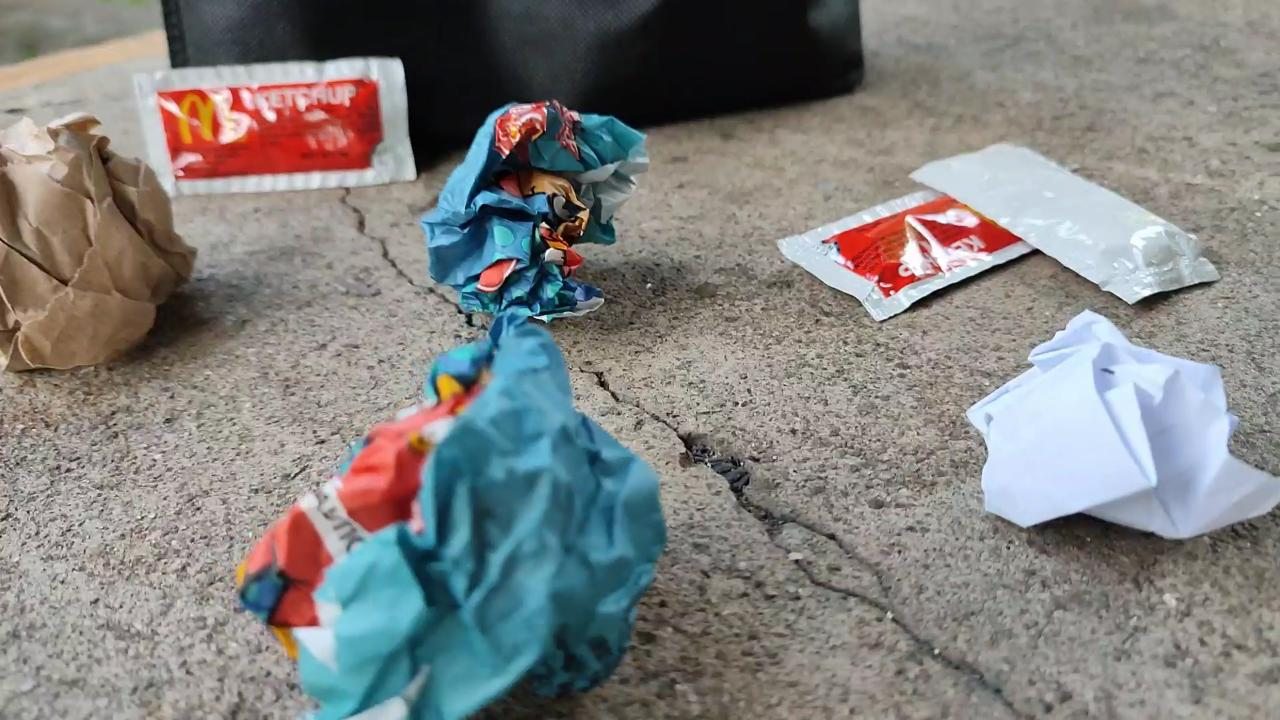Paper: (219, 319, 740, 720), (981, 284, 1280, 582), (0, 99, 196, 380), (423, 73, 634, 334)
